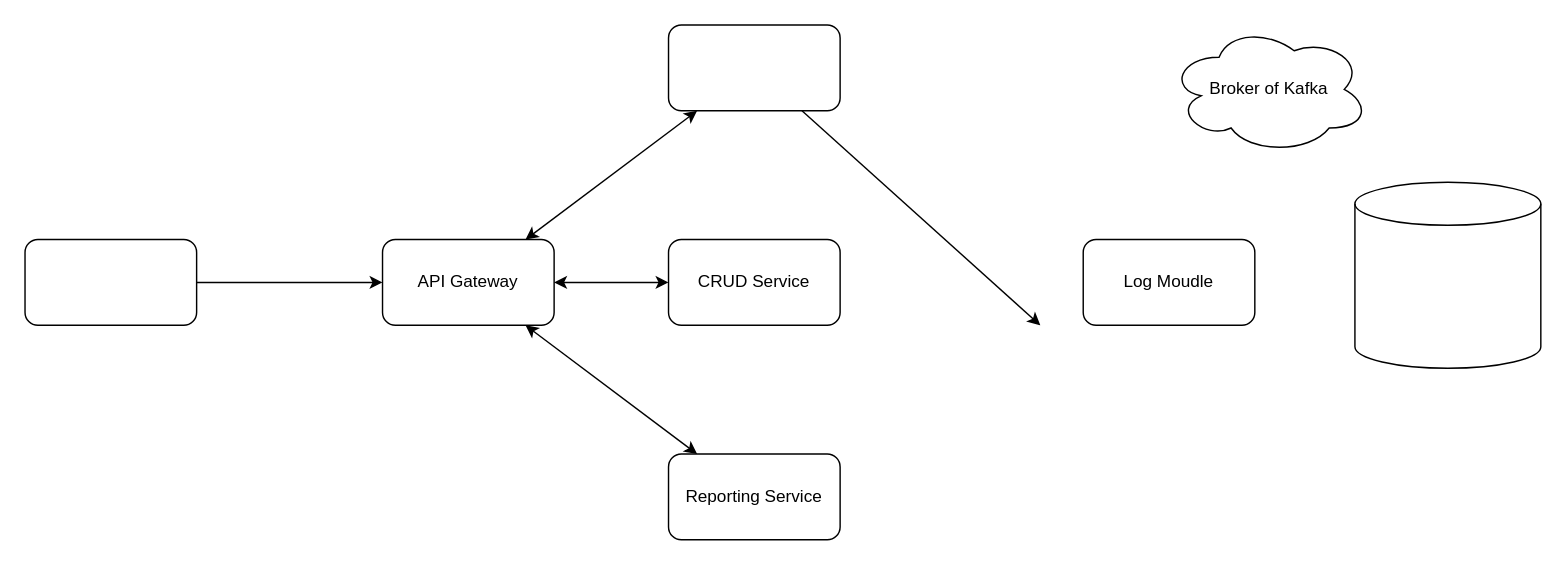
This 1566x565 diagram has some shape labels left out. Each missing label, with the centre of its shape:
Database for log: (1447,274)
Database Service: (753,67)
Web browser: (110,281)
